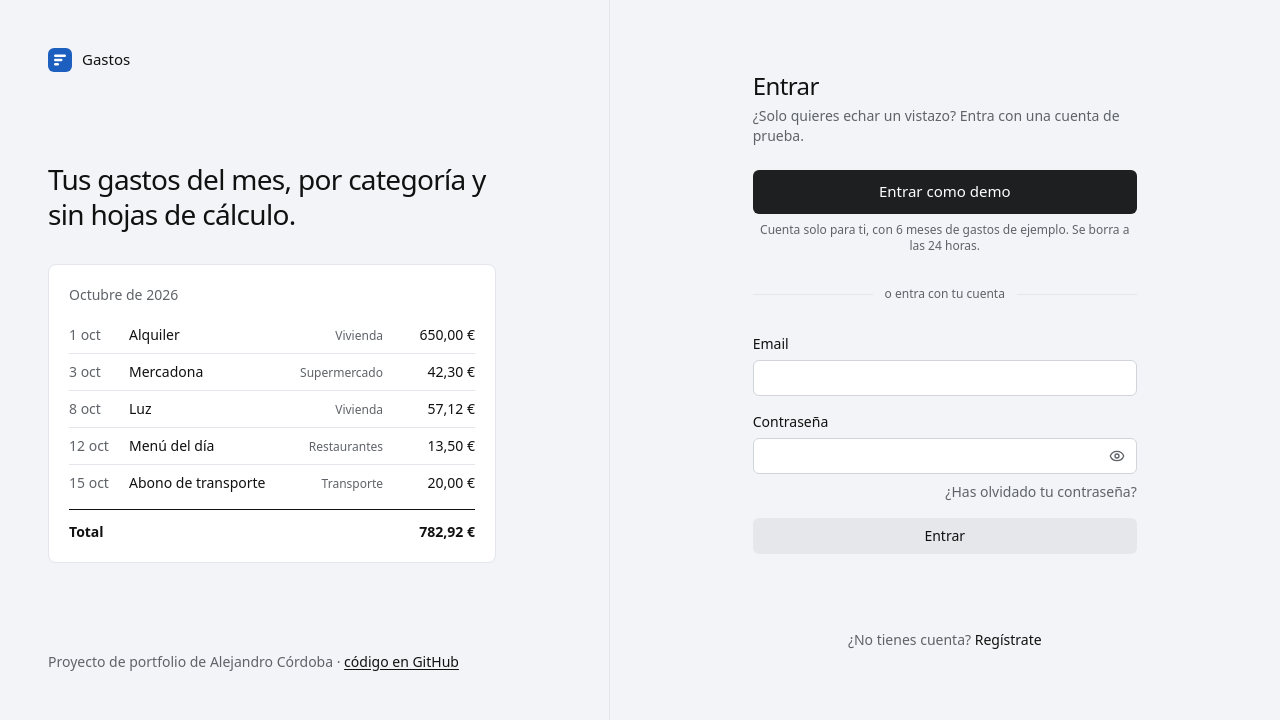
Scenario: login form extras › shows and hides the password
This screenshot has width=1280, height=720.
Type "S3cure-pass!" into the password field labelled "Contraseña" at coordinates (945, 456), box [753, 438, 1137, 474]
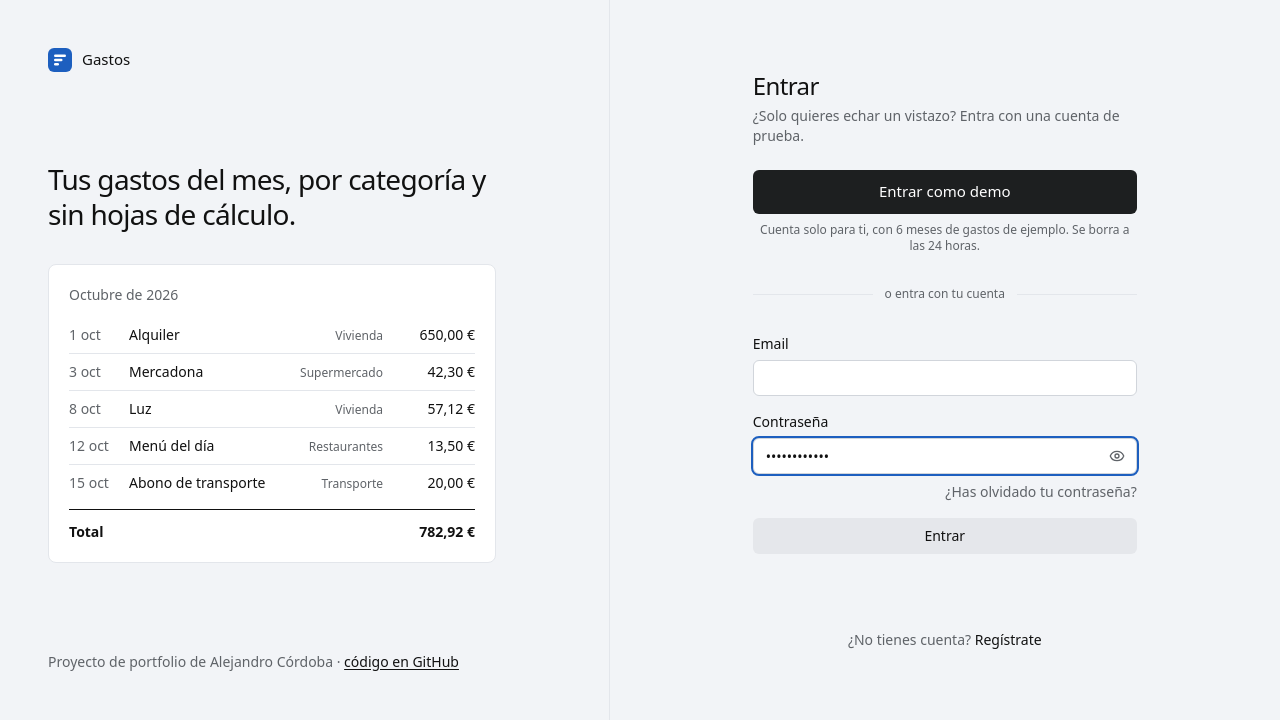
Click the button named "Mostrar contraseña" at coordinates (1117, 456), box [1097, 438, 1137, 474]
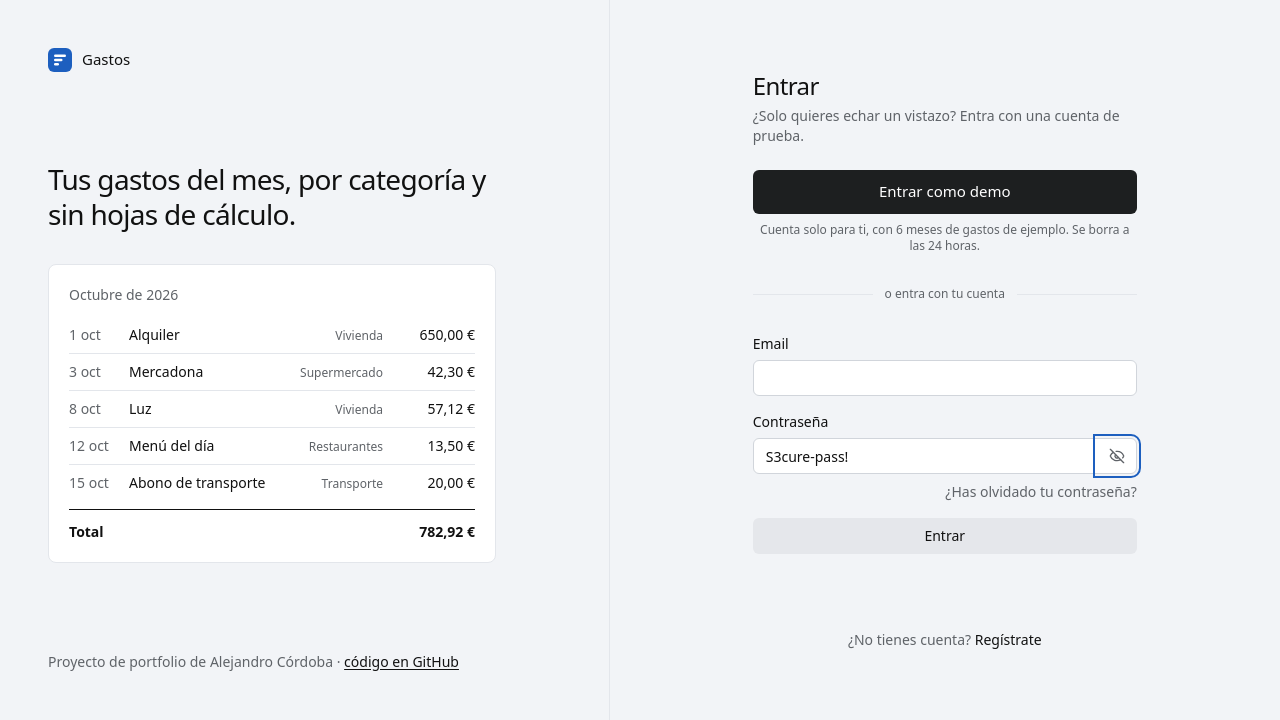
Result: the field labelled "Contraseña" shows its text at [753, 438, 1137, 474]
Click the button named "Ocultar contraseña" at coordinates (1117, 456), box [1097, 438, 1137, 474]
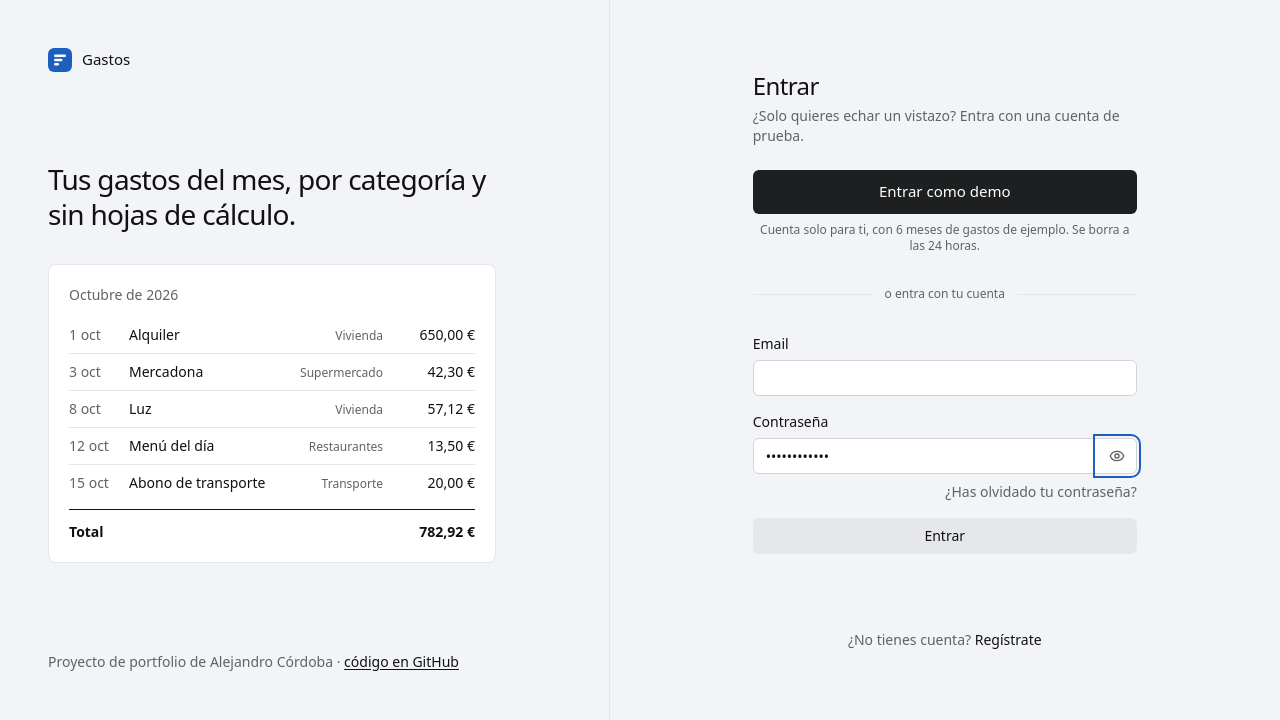
Result: the password field labelled "Contraseña" hides its text at [753, 438, 1137, 474]
